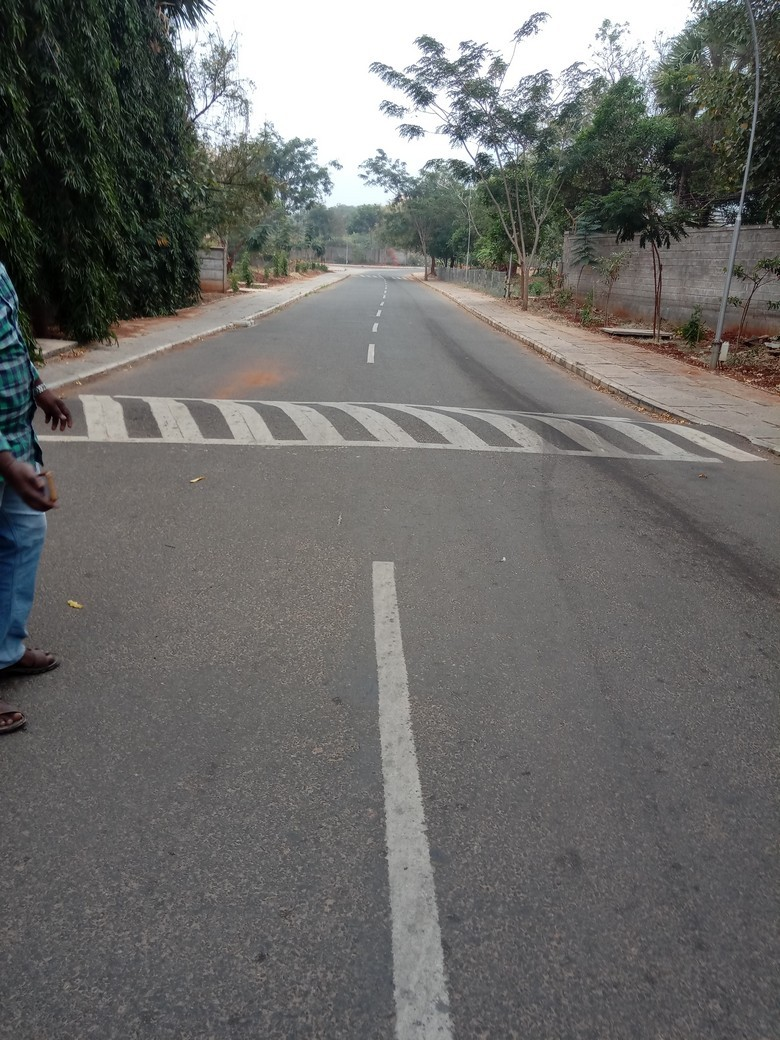bump: (35, 394, 764, 459)
